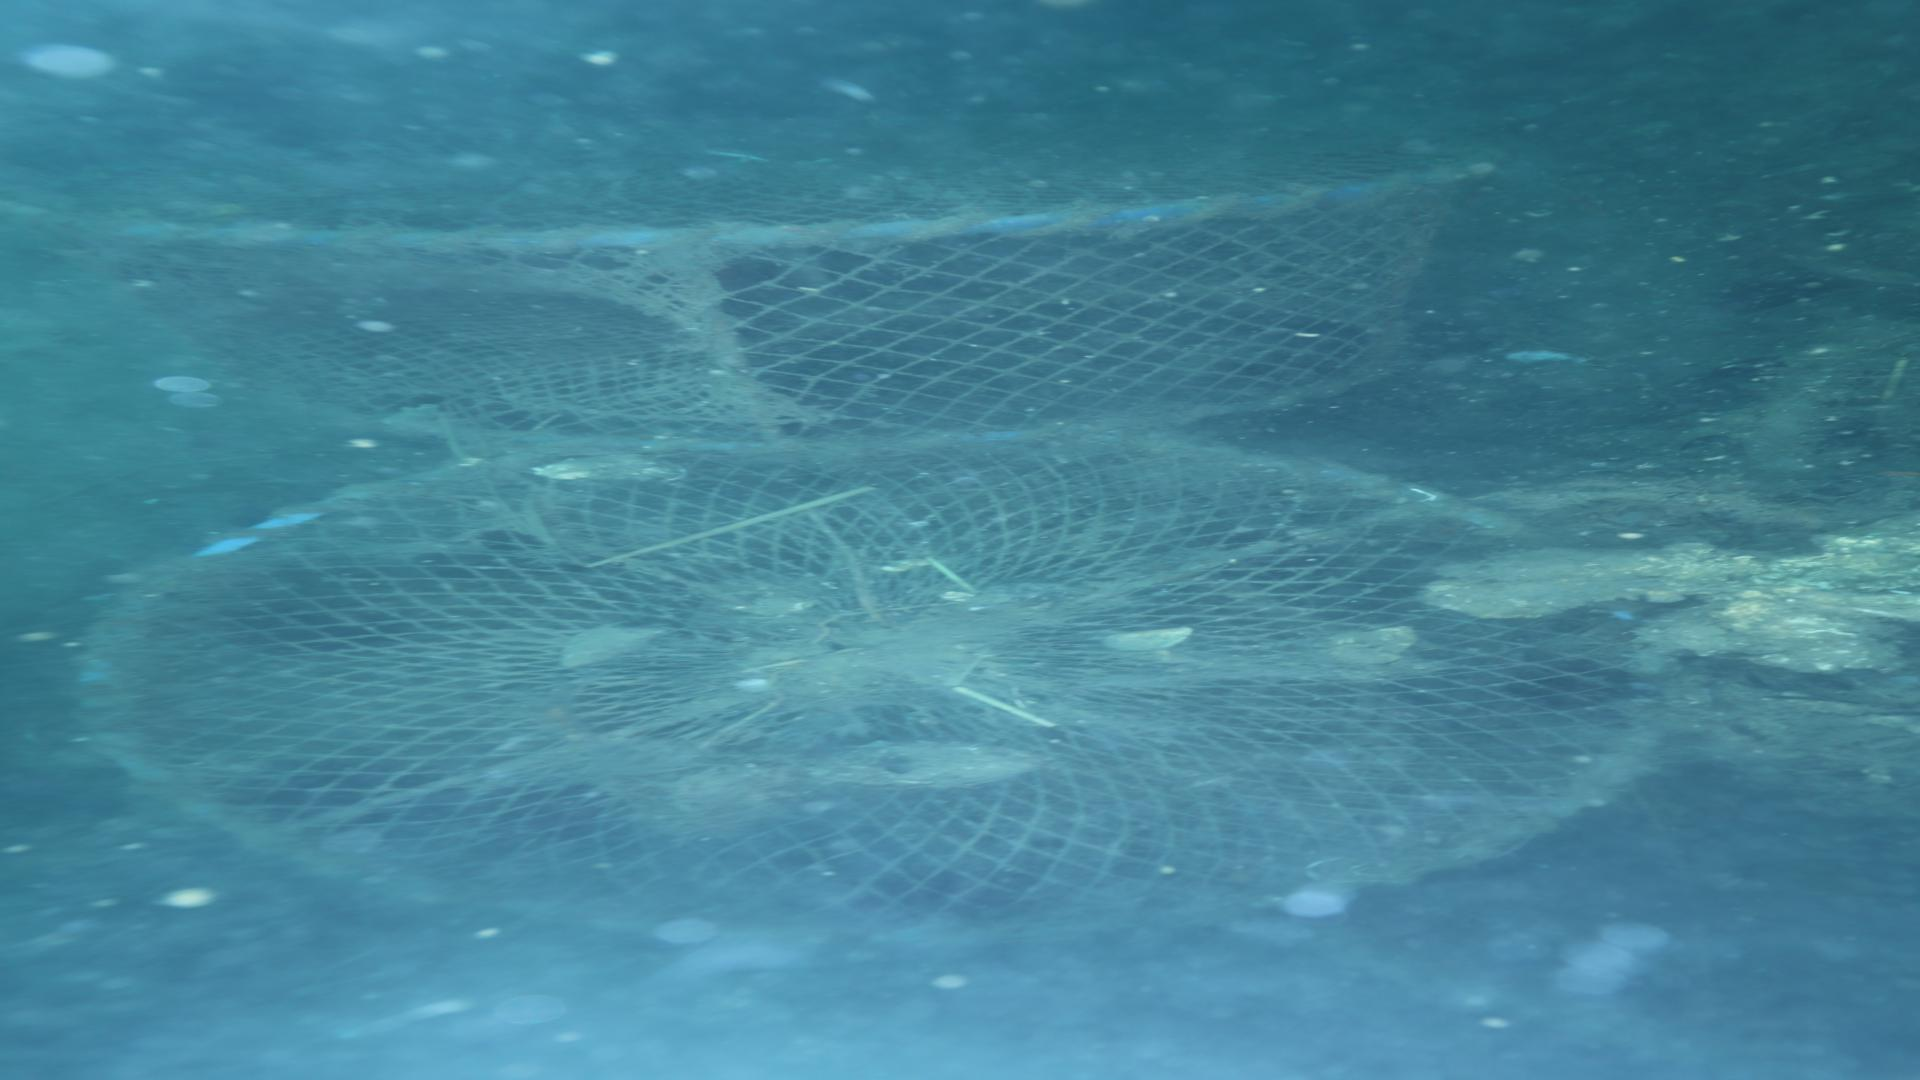circular fish trap: (80, 448, 1662, 948), (0, 112, 1499, 455)
